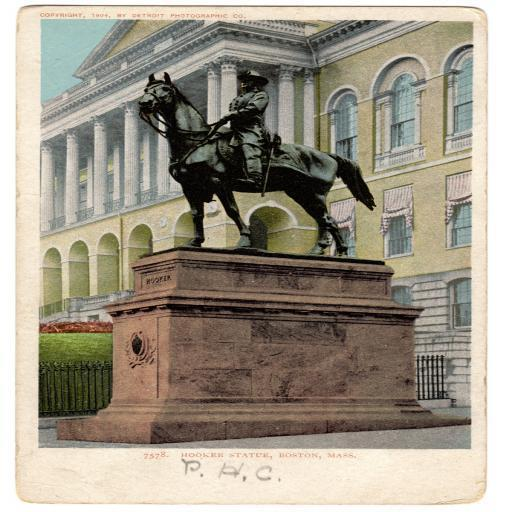horse: (136, 70, 376, 254)
